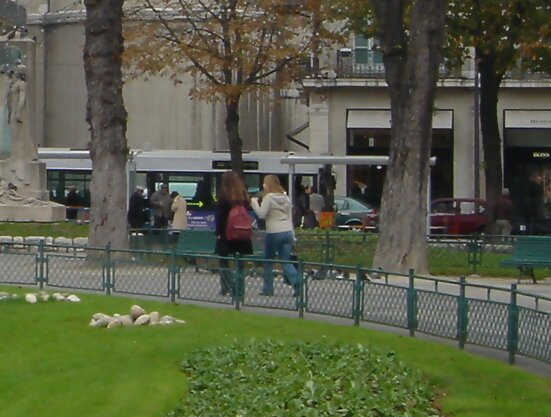person: (254, 173, 306, 300), (214, 170, 257, 291)
